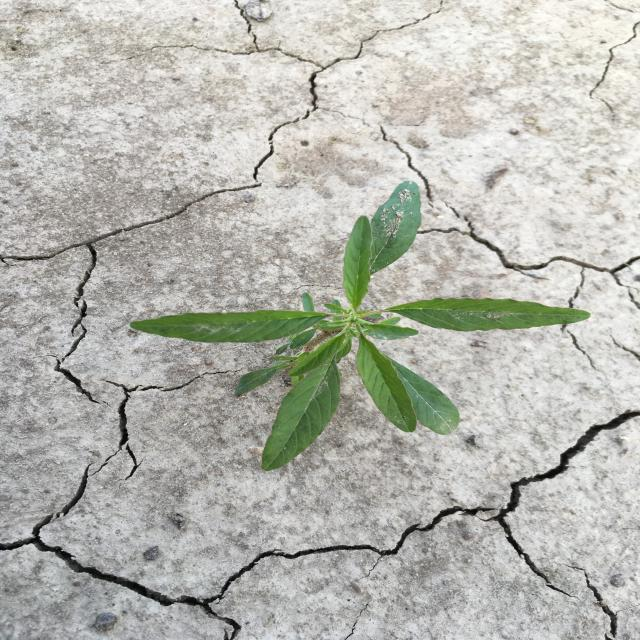Waterhemp: (127, 178, 592, 475)
